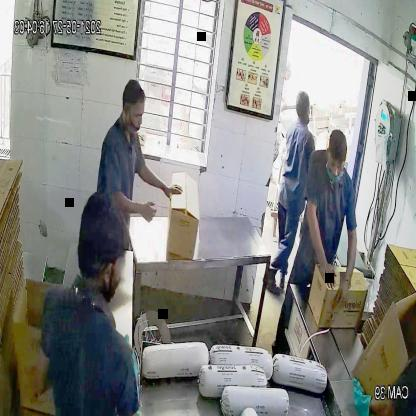no_goggles: (326, 153, 350, 174), (128, 105, 146, 125)
